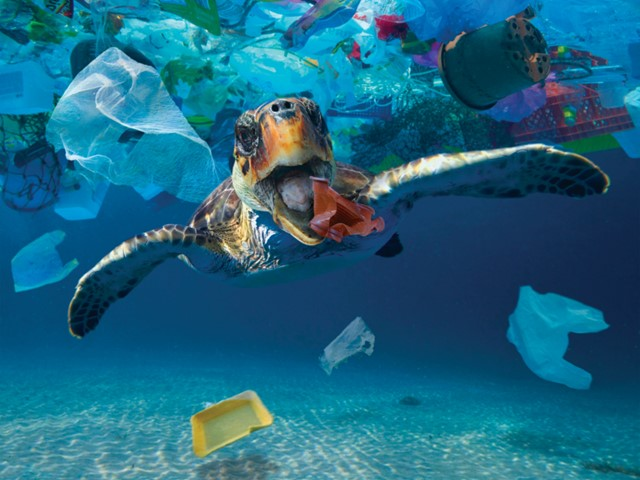Net: (353, 100, 508, 167), (1, 98, 57, 219)
Plastic: (413, 1, 640, 144), (43, 45, 232, 207), (1, 1, 204, 90), (498, 281, 612, 404), (234, 8, 393, 83), (303, 169, 389, 254), (13, 224, 78, 300), (323, 313, 375, 380)
Pot: (438, 12, 562, 117)
Tray: (449, 46, 640, 134), (171, 384, 291, 454)
Turtle: (68, 90, 613, 341)
